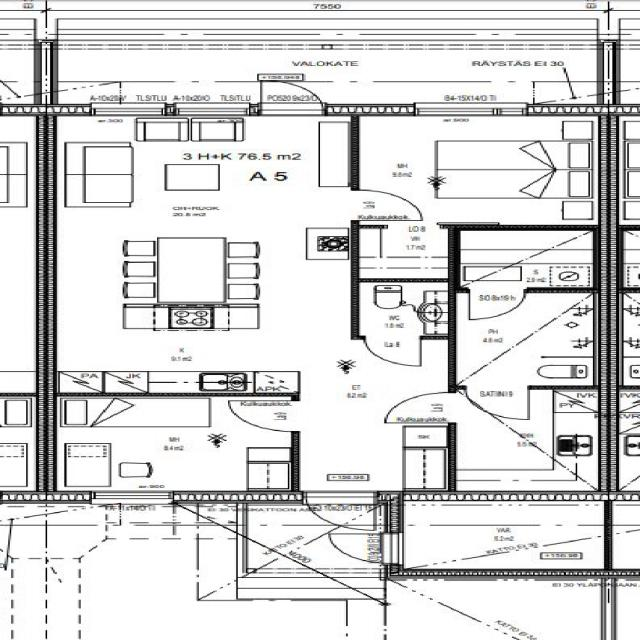door: (303, 492, 374, 537), (260, 73, 325, 116), (319, 534, 404, 566), (466, 384, 530, 420), (350, 190, 422, 220), (229, 402, 300, 432), (387, 392, 456, 422), (469, 287, 528, 321), (365, 336, 421, 366)
